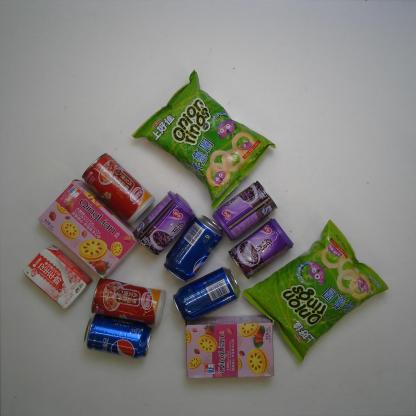Canned Food: (80, 150, 157, 226), (132, 188, 198, 258), (227, 216, 294, 281), (210, 179, 279, 242), (89, 277, 167, 329)
Dessert: (37, 177, 140, 282), (184, 313, 276, 381)
Drink: (162, 212, 225, 284), (171, 264, 241, 324), (83, 311, 155, 361)
Milk: (22, 242, 94, 313)
Puffed Food: (242, 218, 390, 364), (132, 68, 277, 204)
